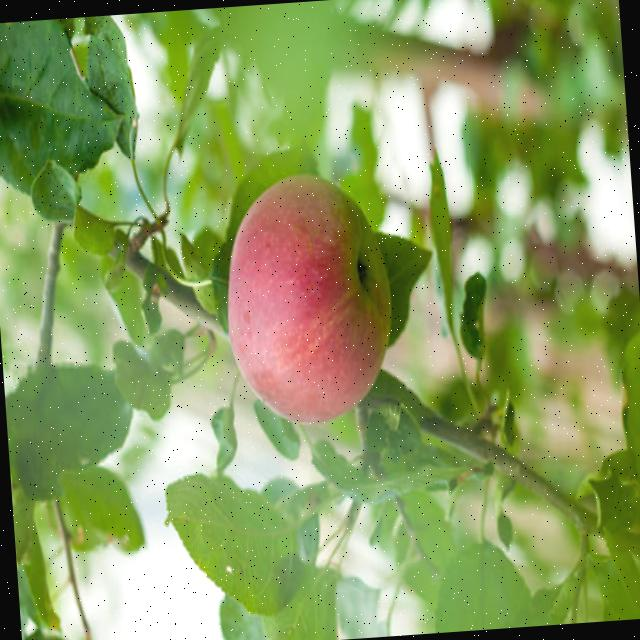Unripe: (220, 167, 398, 424)
